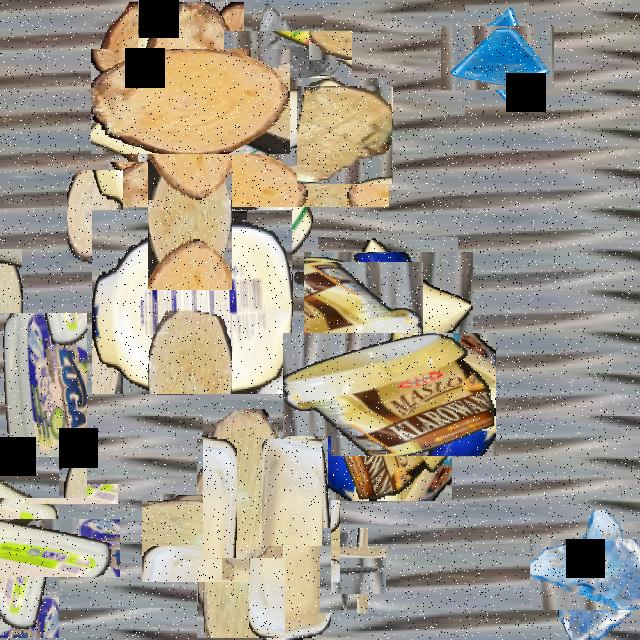glass: (238, 16, 338, 116), (544, 524, 640, 624), (452, 14, 542, 103)
metal: (262, 439, 322, 546), (311, 537, 377, 604)
plastic: (146, 39, 352, 245), (92, 210, 292, 394), (306, 310, 474, 479), (310, 244, 466, 400), (249, 436, 331, 638), (0, 313, 87, 498), (0, 487, 89, 607), (0, 434, 69, 553)
wood: (115, 25, 267, 178), (169, 467, 313, 610), (100, 2, 182, 162), (148, 150, 232, 292), (203, 409, 283, 558), (296, 86, 392, 184), (67, 170, 123, 266), (0, 249, 22, 363)
